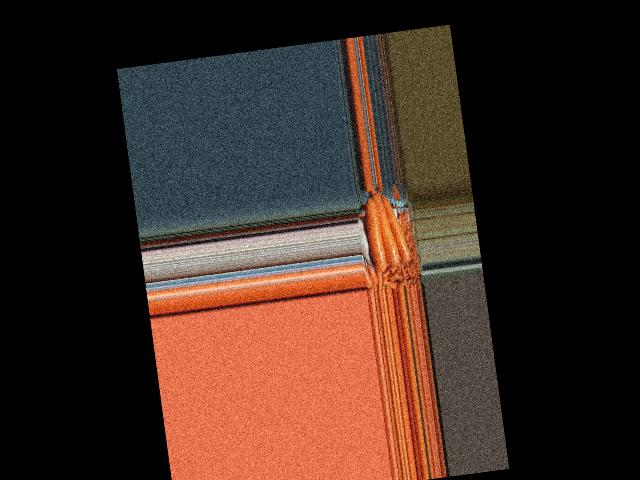carrot: (363, 194, 391, 274)
